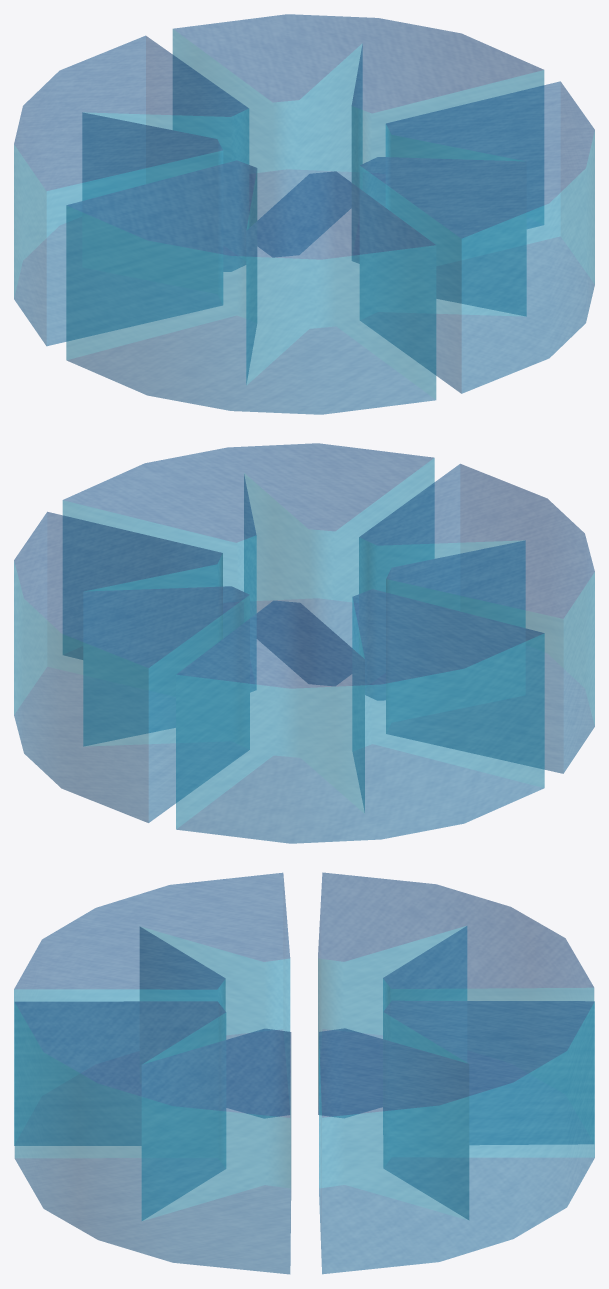
Rendered from Pickup.fbx.
3 renders of one model, top to bottom at view 1: azimuth 30°, elevation 25°; view 2: azimuth 150°, elevation 25°; view 3: azimuth 270°, elevation 25°, orthographic.
Visible parts, largest first — view 1: pickup; view 2: pickup; view 3: pickup.
Boxes of the visible parts, x1,y1,x2,y2 form: pickup: (14, 14, 594, 414); pickup: (14, 443, 594, 843); pickup: (14, 872, 594, 1274).
Size of the model in its own units: 9.89 by 2.94 by 9.89.
Materials: 1 (1 with a texture image).
